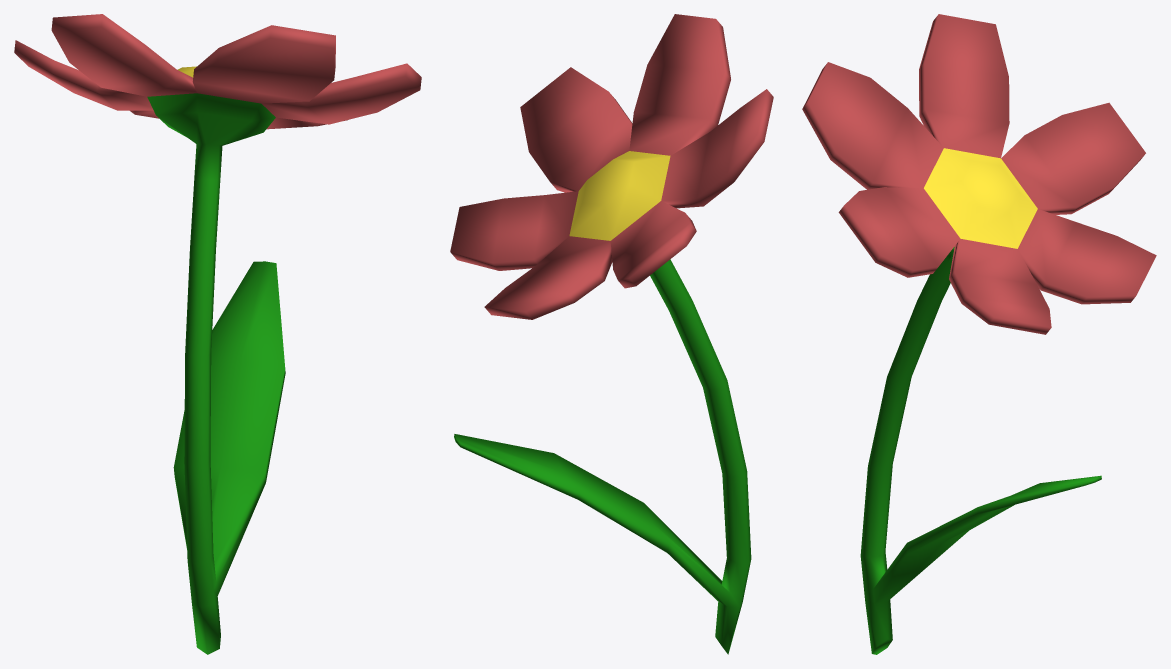
Rendered from Flower Red 1.fbx.
3 views of the same model, side by side, from view 1: azimuth 30°, elevation 25°; view 2: azimuth 150°, elevation 25°; view 3: azimuth 270°, elevation 25° (orthographic). The views are drawn at different scales.
Parts seen in each view (by area): view 1: Flower Red 1; view 2: Flower Red 1; view 3: Flower Red 1.
Boxes of the visible parts, box(x1,y1,x2,y2) form: Flower Red 1: box(14, 14, 421, 654); Flower Red 1: box(450, 14, 773, 654); Flower Red 1: box(802, 14, 1156, 654).
Bounding box in the file's own units: 33.6 × 33.96 × 64.57.
